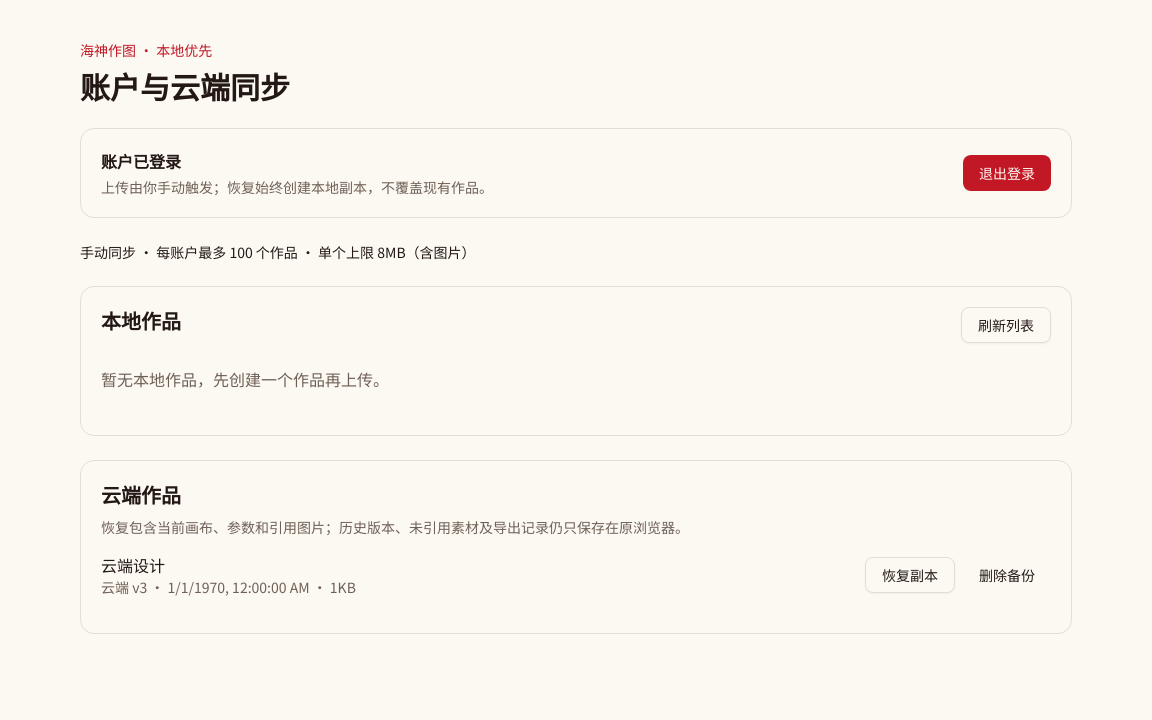
Scenario: manual cloud backup interactions › does not create a local work when downloading fails
This screenshot has width=1152, height=720.
Click the button "恢复副本": (910, 575) [865,557,955,593]
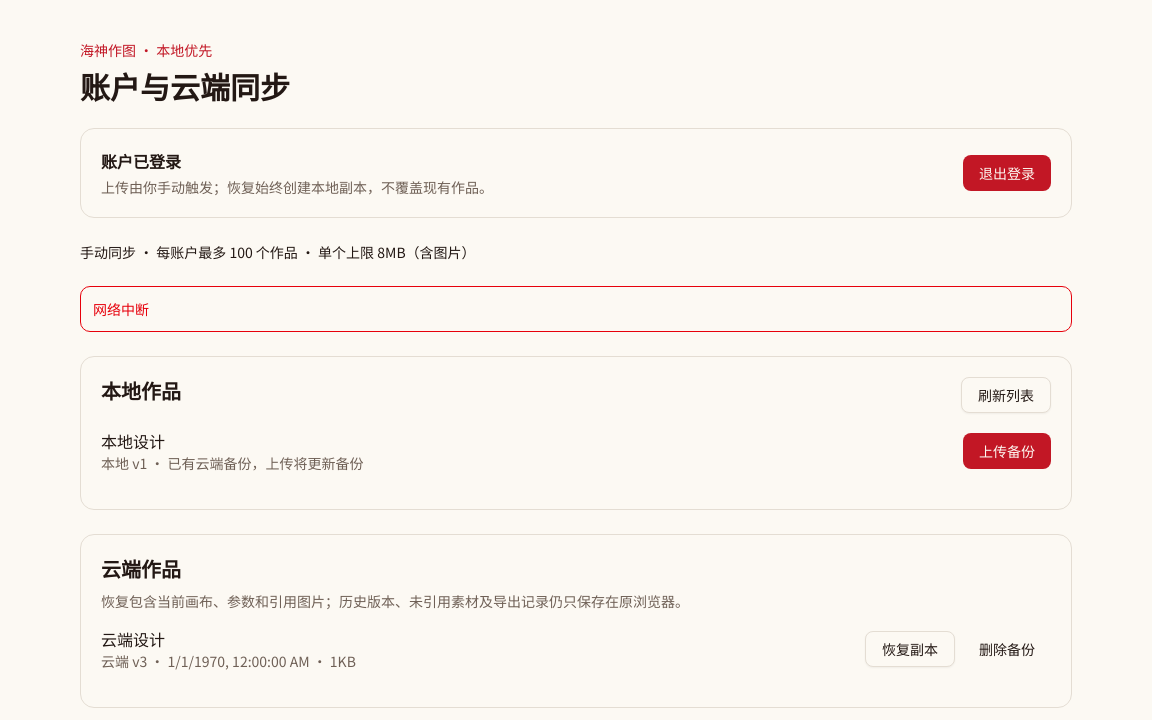
Check: the message reads "网络中断", box [93,299,149,319]
